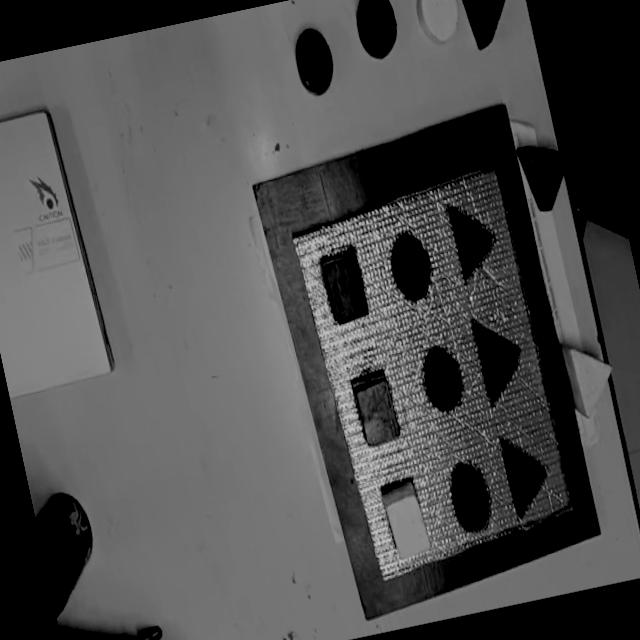bcircle: (349, 0, 402, 62)
bcube: (318, 247, 372, 327)
btriangle: (456, 0, 522, 50)
mtcircle: (384, 229, 438, 306), (444, 458, 496, 537), (416, 341, 468, 416)
mttriangle: (469, 309, 532, 407), (498, 430, 556, 522), (446, 195, 502, 282)
rcircle: (290, 24, 340, 99)
rcube: (350, 368, 402, 451)
rtriangle: (514, 136, 579, 216)
wb: (284, 160, 582, 587)
ycircle: (410, 0, 464, 46)
ycube: (378, 476, 434, 563)
ytriangle: (560, 335, 622, 419)
